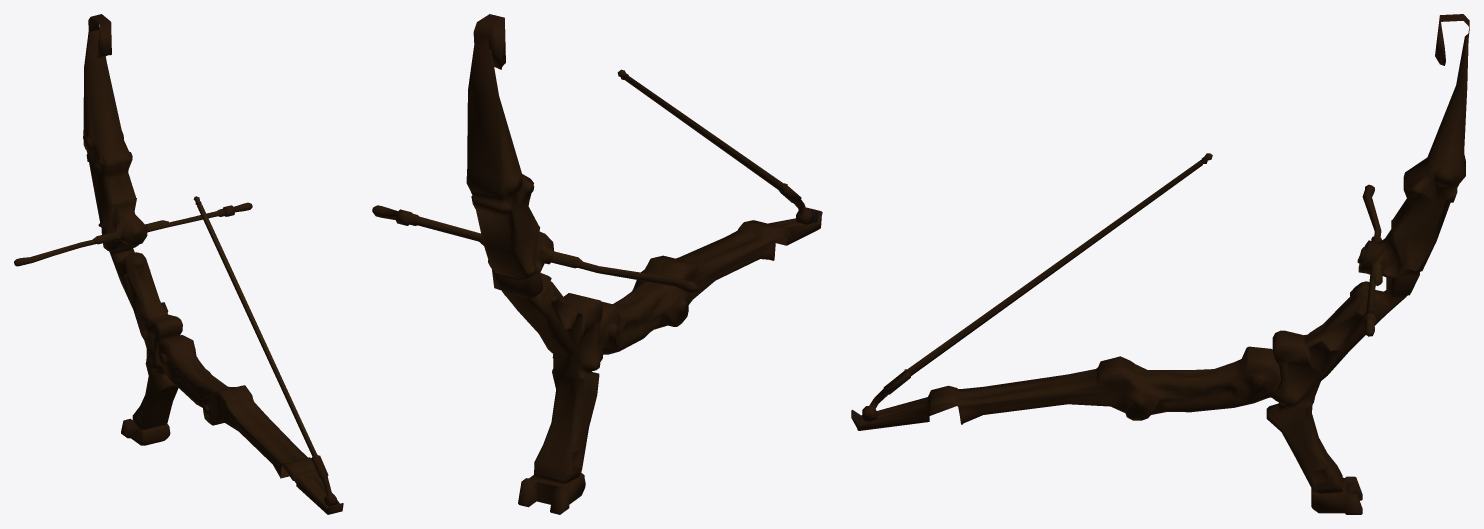
File: sinew_backed_bow.glb
The picture shows the model from 3 angles, left to right: view 1: azimuth 30°, elevation 25°; view 2: azimuth 150°, elevation 25°; view 3: azimuth 270°, elevation 25°; orthographic projection. The views are drawn at different scales.
Parts seen in each view (by area): view 1: base_model_path; view 2: base_model_path; view 3: base_model_path.
Part boxes in pixels (box(x1,y1,x2,y2)): base_model_path: box(14, 14, 343, 514); base_model_path: box(372, 14, 822, 514); base_model_path: box(851, 14, 1469, 514).
Bounding box in the file's own units: 0.5457 × 0.845 × 0.9702.
1 material, 1 textured.
